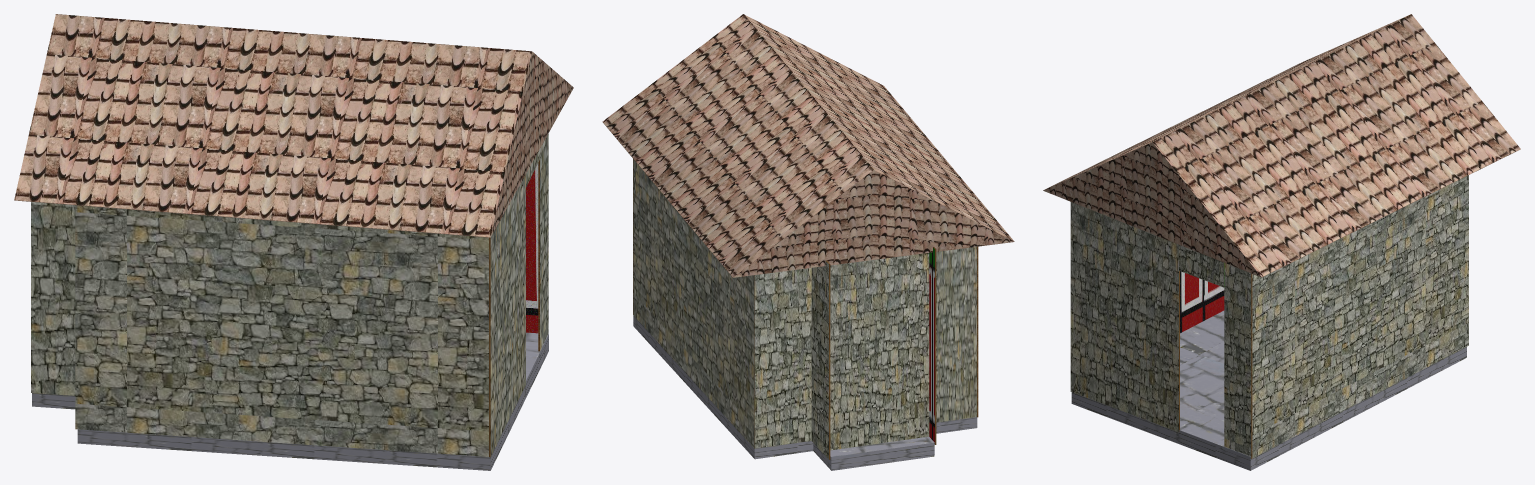
Rendered from MithraeumBuilding.fbx.
3 renders of one model, left to right at view 1: azimuth 30°, elevation 25°; view 2: azimuth 150°, elevation 25°; view 3: azimuth 270°, elevation 25°, orthographic. The views are drawn at different scales.
Parts seen in each view (by area): view 1: Roof, Mithraeum_Wall_002, Mithraeum_Wall_008, FloorMithraeum, Mithraeum_Wall_1, TableTop, Mithraeum_Wall_003; view 2: Roof, Mithraeum_Wall_003, Mithraeum_Wall_006, Mithraeum_Wall_005, Mithraeum_Wall_004, FloorMithraeum, Mithraeum_Wall_007, Mithraeum_Wall_008; view 3: Roof, Mithraeum_Wall_003, Mithraeum_Wall_1, FloorMithraeum, TableTop, Mithraeum_Wall_002, TableTop001.
Boxes of the visible parts, bbox=[...] form: Roof: bbox=[14, 14, 573, 237]; Mithraeum_Wall_002: bbox=[75, 205, 488, 456]; Mithraeum_Wall_008: bbox=[31, 202, 75, 395]; FloorMithraeum: bbox=[32, 332, 548, 470]; Mithraeum_Wall_1: bbox=[489, 174, 525, 457]; TableTop: bbox=[538, 133, 548, 351]; Mithraeum_Wall_003: bbox=[526, 163, 538, 333]; Roof: bbox=[602, 14, 1014, 277]; Mithraeum_Wall_003: bbox=[633, 159, 754, 447]; Mithraeum_Wall_006: bbox=[830, 253, 929, 450]; Mithraeum_Wall_005: bbox=[754, 268, 811, 448]; Mithraeum_Wall_004: bbox=[936, 247, 976, 422]; FloorMithraeum: bbox=[633, 315, 977, 470]; Mithraeum_Wall_007: bbox=[811, 260, 830, 459]; Mithraeum_Wall_008: bbox=[929, 247, 936, 444]; Roof: bbox=[1043, 14, 1520, 277]; Mithraeum_Wall_003: bbox=[1252, 175, 1468, 458]; Mithraeum_Wall_1: bbox=[1070, 202, 1179, 432]; FloorMithraeum: bbox=[1071, 310, 1466, 470]; TableTop: bbox=[1224, 263, 1252, 458]; Mithraeum_Wall_002: bbox=[1180, 271, 1224, 333]; TableTop001: bbox=[1179, 245, 1224, 287].
Bounding box in the file's own units: 1135 × 733 × 1065.
